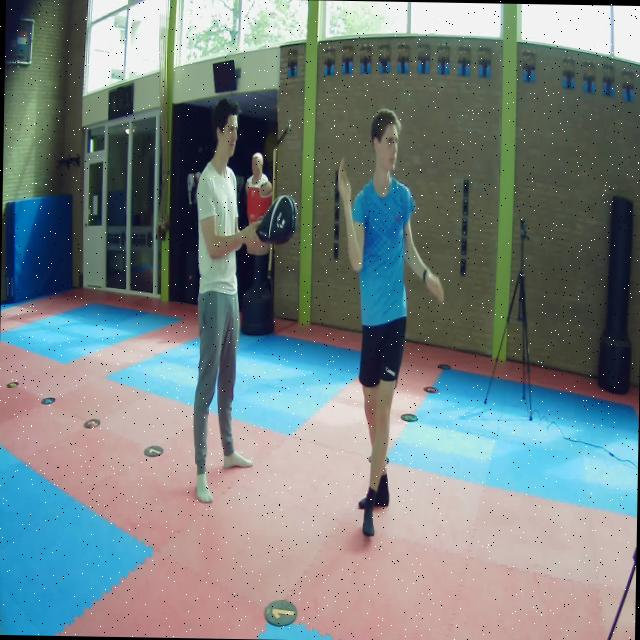paddle: (255, 194, 296, 243)
